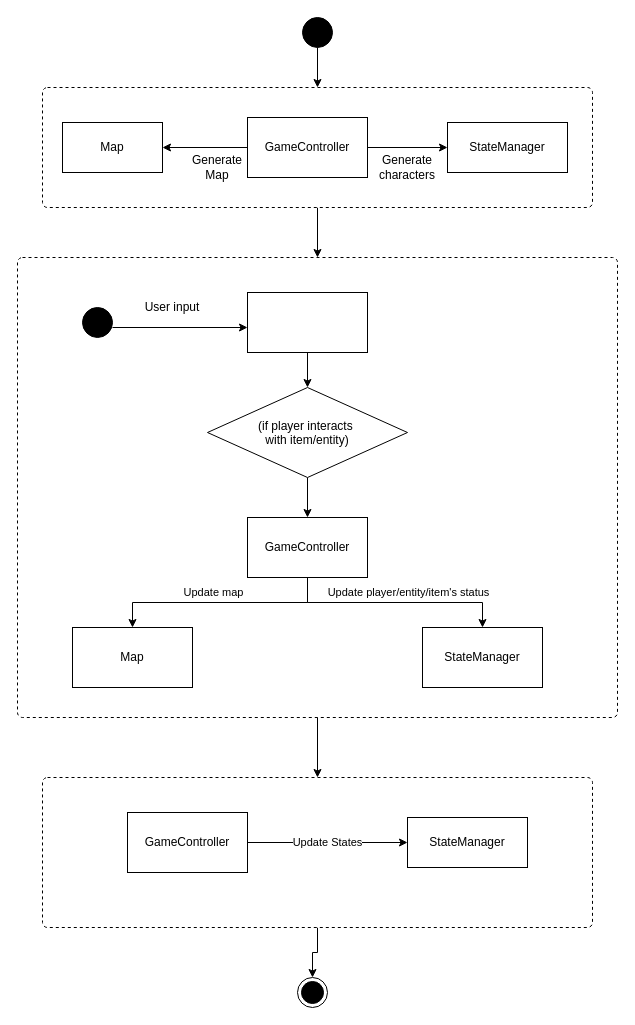
Some shapes in this 635 by 1025 pixel diagram are drawn without their labels. Here are the shapes that lost their labels. From the top down, the box of each, then its label:
(42, 86, 592, 208): Start Game
(246, 292, 368, 352): InputController
(16, 256, 618, 718): Level 1-3
(42, 776, 592, 928): End Game
